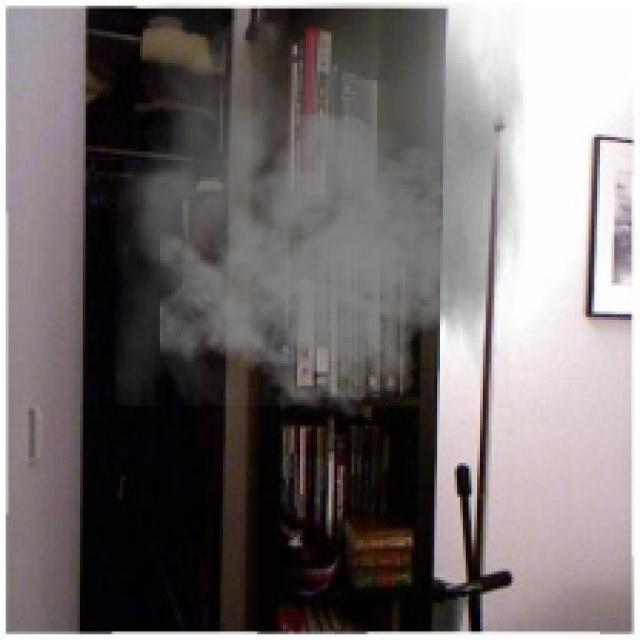Smoke: (114, 3, 526, 420)
